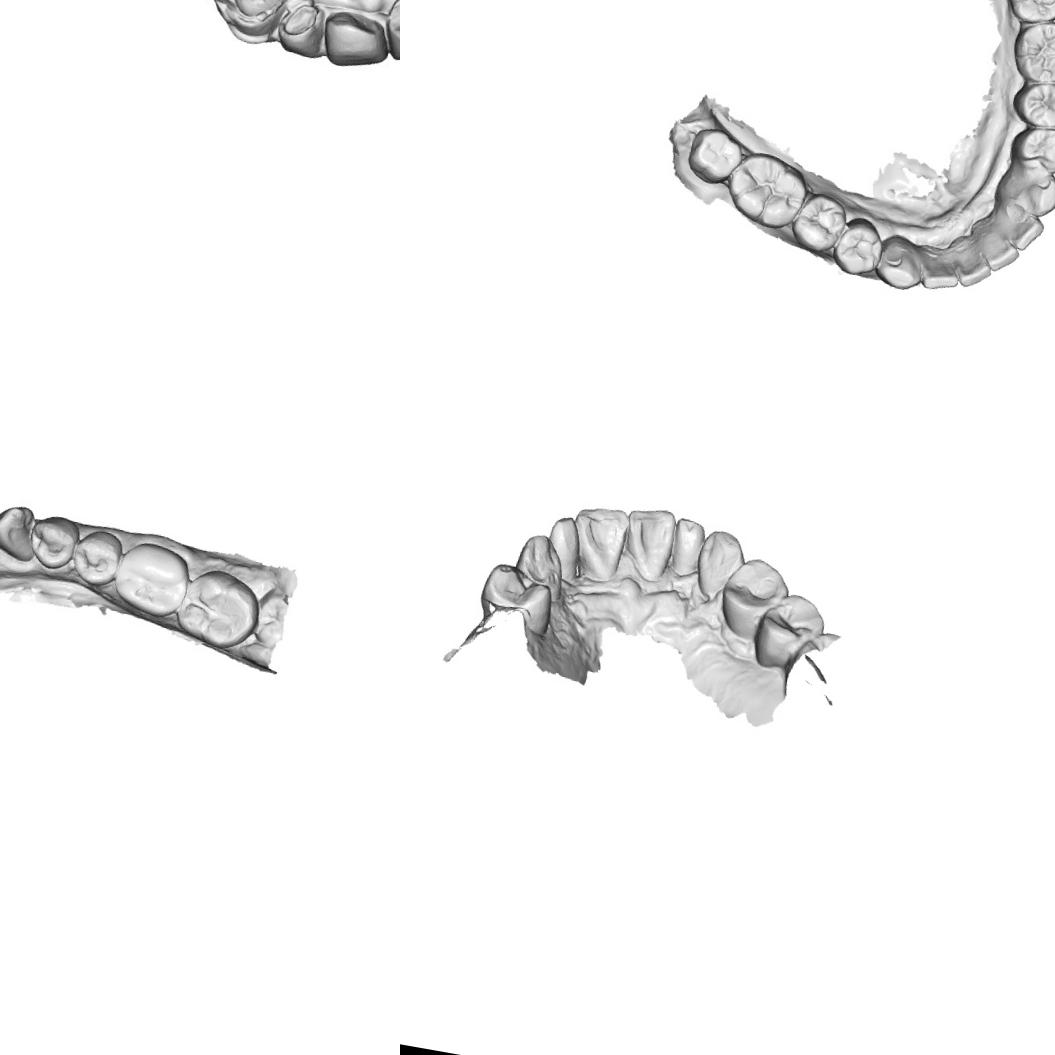canine: (690, 526, 750, 603), (508, 530, 570, 604), (990, 160, 1055, 220), (872, 231, 928, 293), (0, 498, 42, 563)
incisor: (562, 500, 632, 586), (617, 503, 678, 584), (540, 512, 586, 584), (944, 238, 998, 291), (666, 515, 710, 579), (990, 206, 1047, 255), (969, 228, 1023, 276), (916, 242, 964, 294)
molar: (170, 562, 266, 654), (720, 146, 813, 233), (108, 536, 192, 620), (682, 122, 747, 188), (1005, 13, 1055, 88), (1002, 0, 1055, 28)
premolar: (714, 552, 794, 645), (748, 587, 829, 676), (474, 558, 558, 640), (786, 187, 852, 257), (828, 212, 886, 280), (23, 510, 82, 574), (67, 524, 124, 590), (1007, 74, 1055, 132), (1006, 119, 1055, 175)
